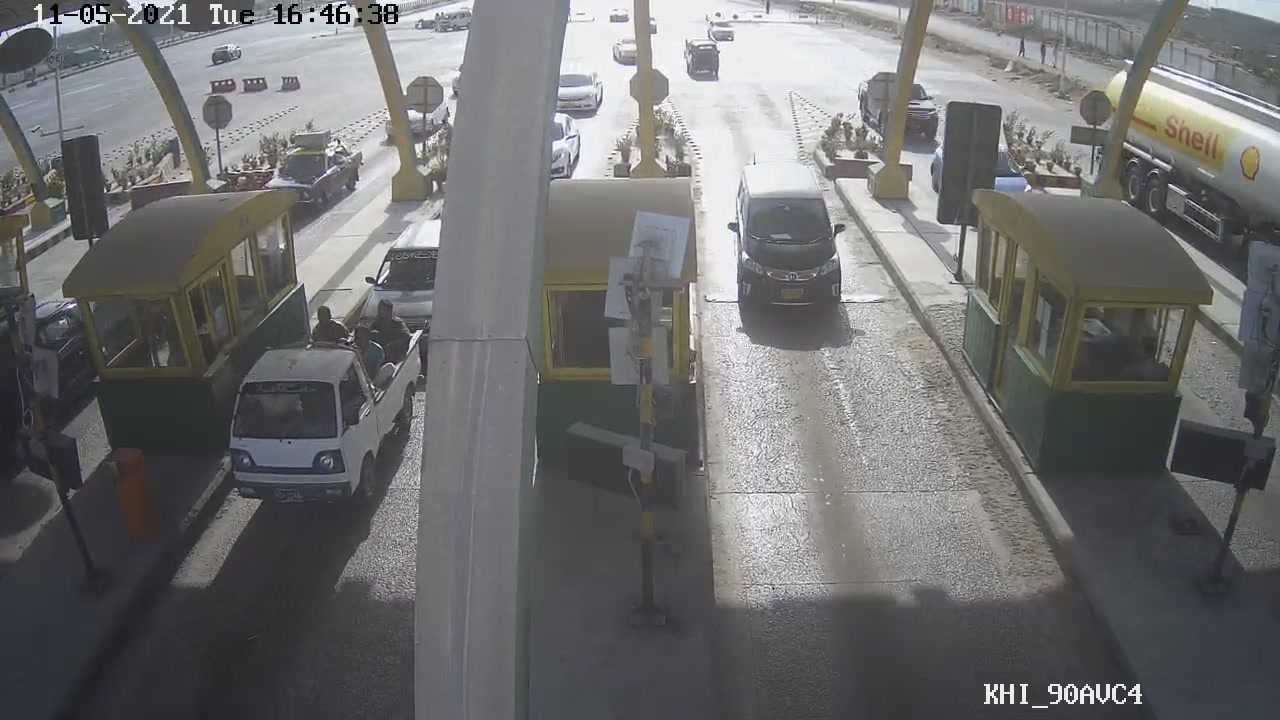F1: (719, 162, 852, 334)
